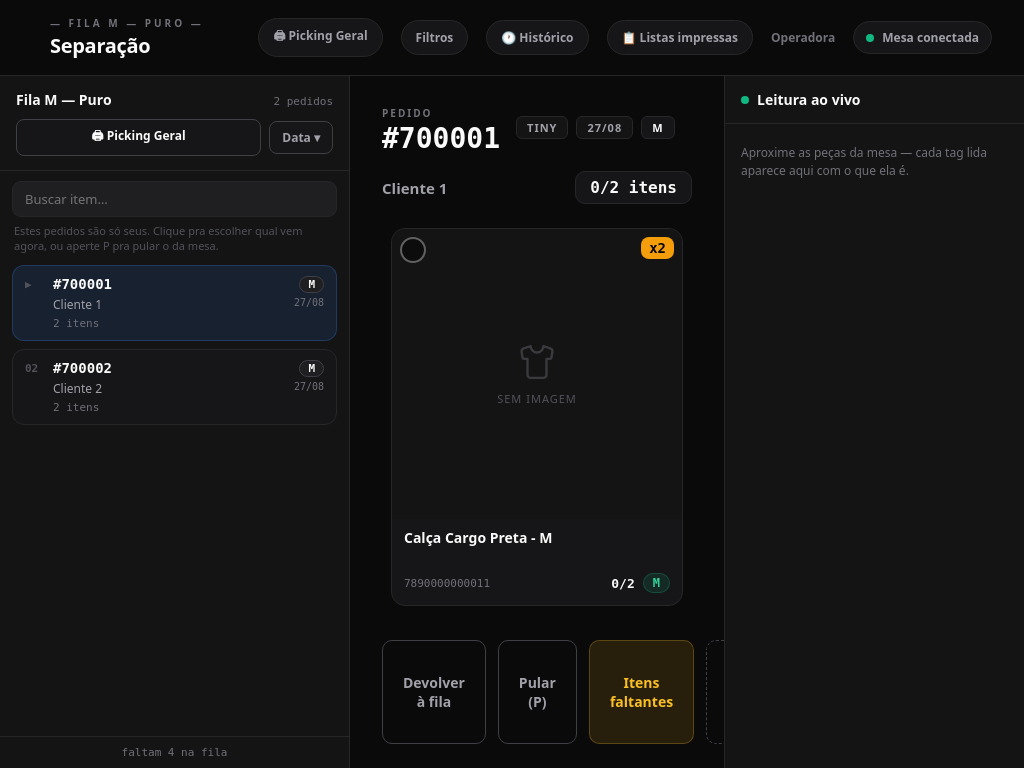
Scenario: iniciar só na primeira leitura › pedido só olhado sai do lote quando o filtro o exclui
Click the button "Filtros" at coordinates (434, 38), box [401, 20, 468, 55]
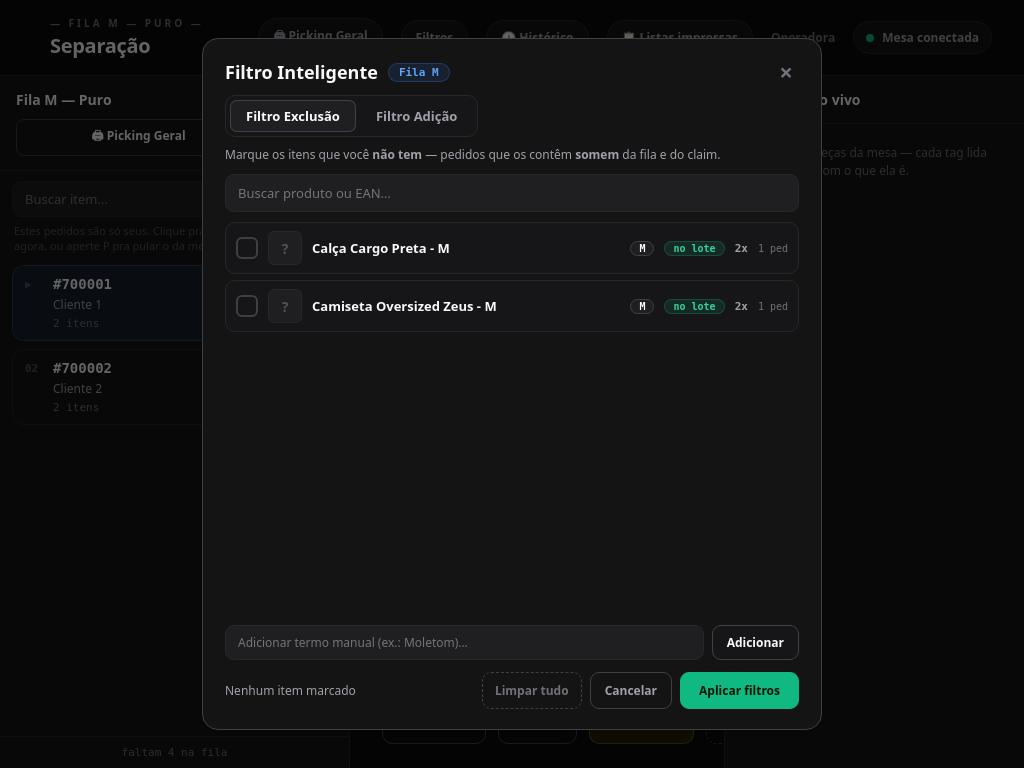
Type "Calça" into the field with placeholder "Adicionar termo manual (ex.: Moletom)…" at coordinates (464, 642), box [225, 625, 704, 660]
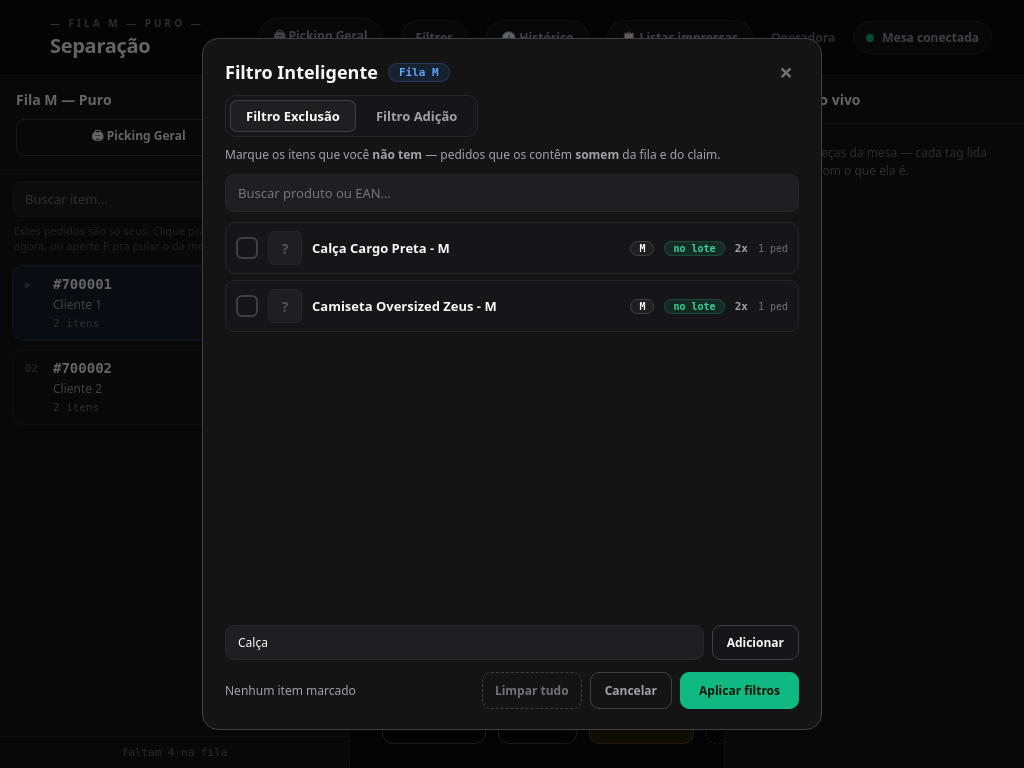
Click the button "Adicionar" at coordinates (755, 642), box [712, 625, 799, 660]
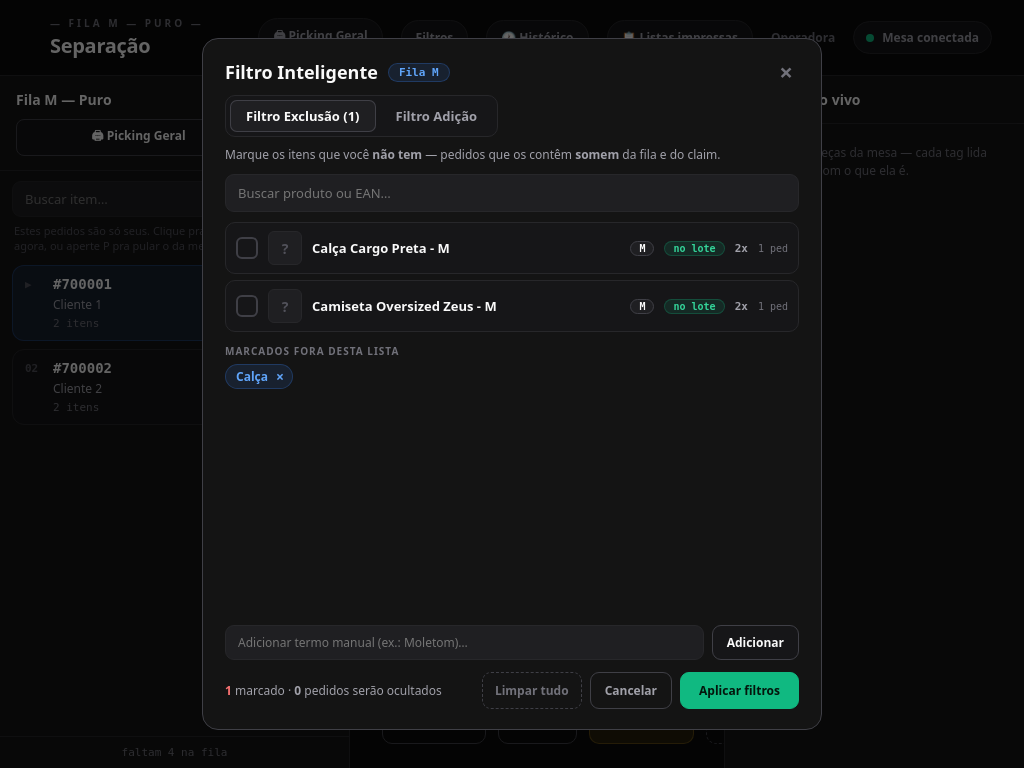
Click the button "Aplicar filtros" at coordinates (740, 690), box [680, 672, 799, 709]
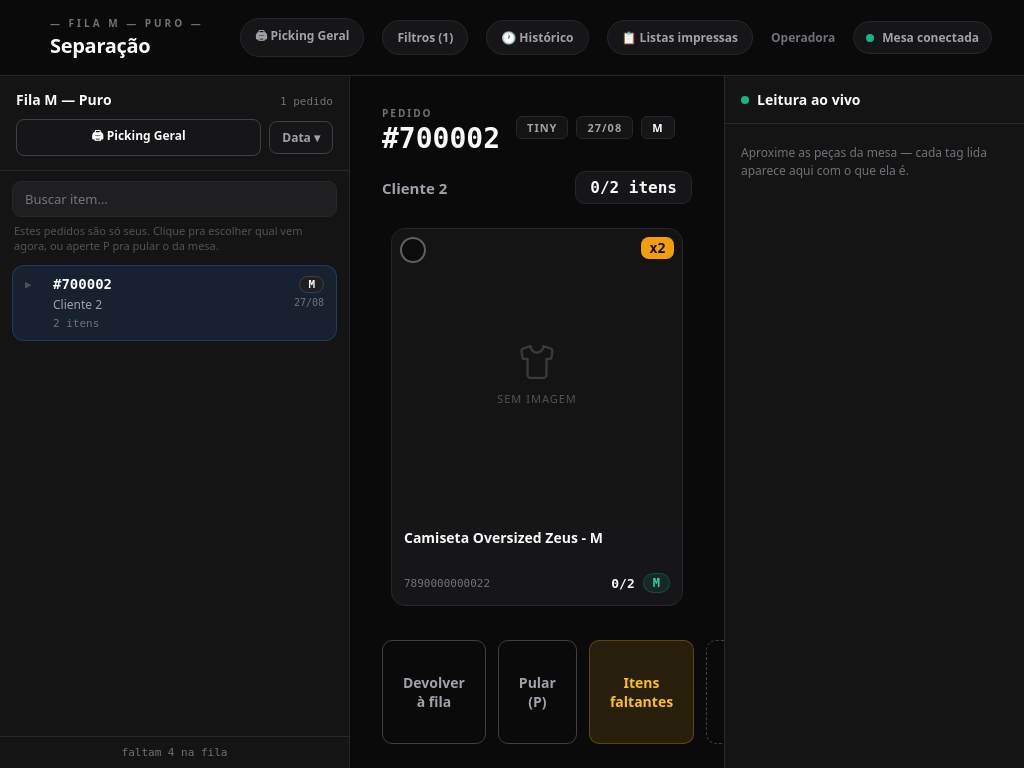
Check: the 2nd text "#700002" is shown, box [53, 276, 112, 292]
Check: the text "#700001" is gone
